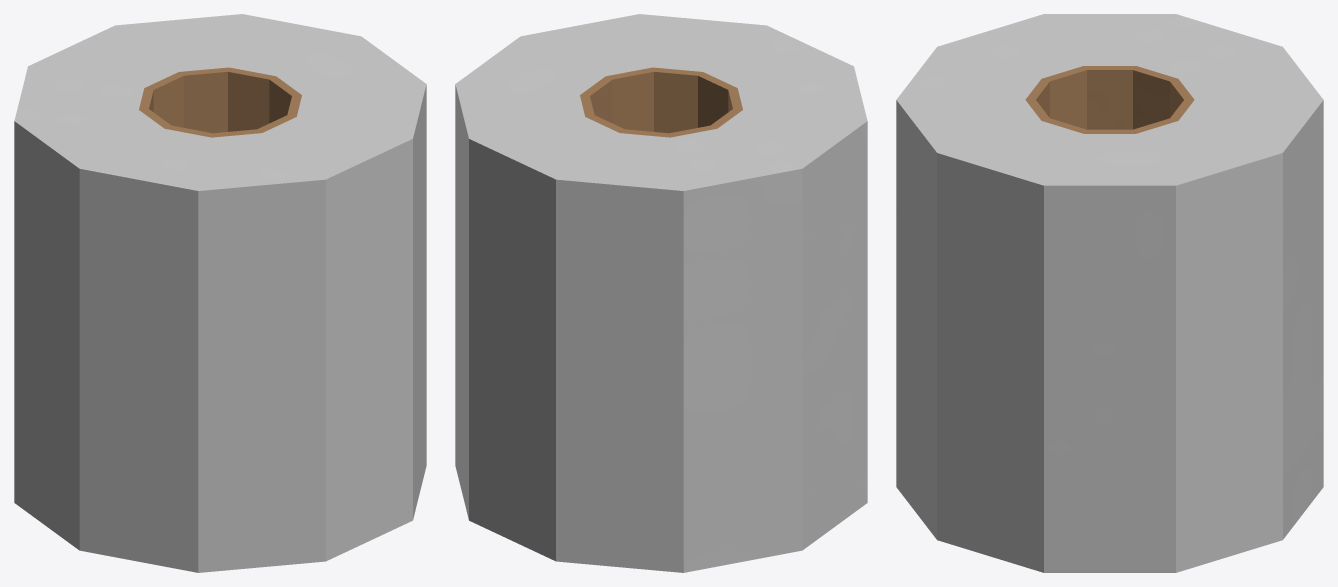
File: Toilet_Paper_01.fbx
3 renders of one model, left to right at view 1: azimuth 30°, elevation 25°; view 2: azimuth 150°, elevation 25°; view 3: azimuth 270°, elevation 25°, orthographic.
Parts seen in each view (by area): view 1: Toilet_Paper_01; view 2: Toilet_Paper_01; view 3: Toilet_Paper_01.
Boxes of the visible parts, x1,y1,x2,y2 form: Toilet_Paper_01: (14, 14, 426, 572); Toilet_Paper_01: (455, 14, 867, 572); Toilet_Paper_01: (896, 14, 1323, 572).
Size of the model in its own units: 0.187 by 0.1966 by 0.1966.
